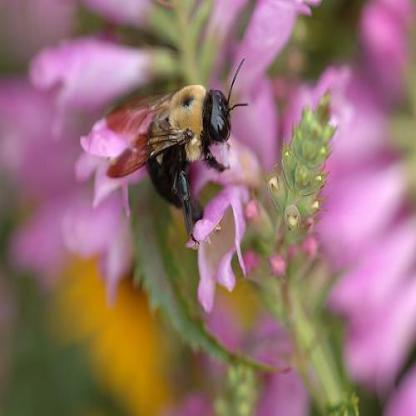beetle: (92, 54, 256, 245)
